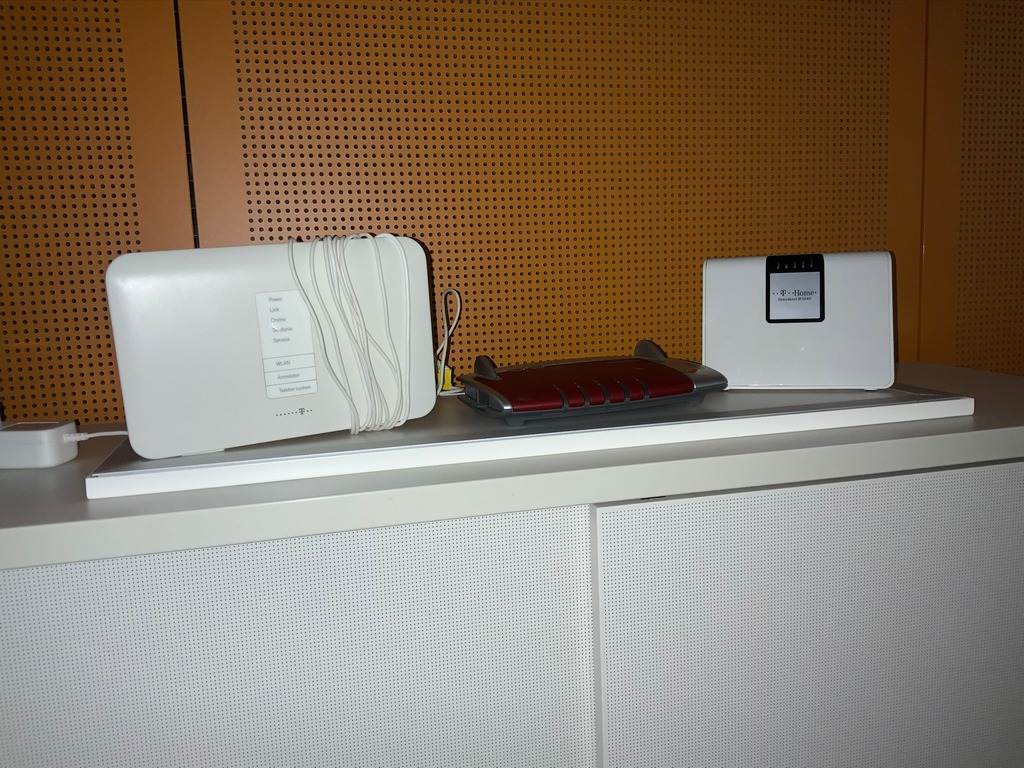Router2: (699, 250, 900, 394)
router: (102, 240, 442, 460)
router3: (461, 349, 731, 418)
